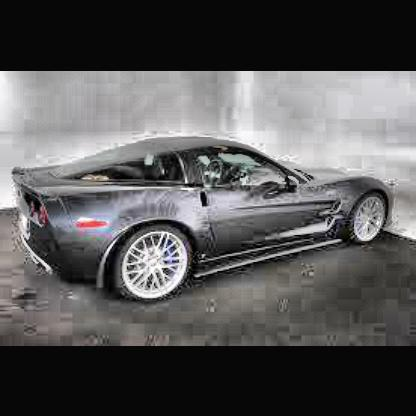Chevrolet Corvette ZR1 2012: (6, 131, 409, 307)
